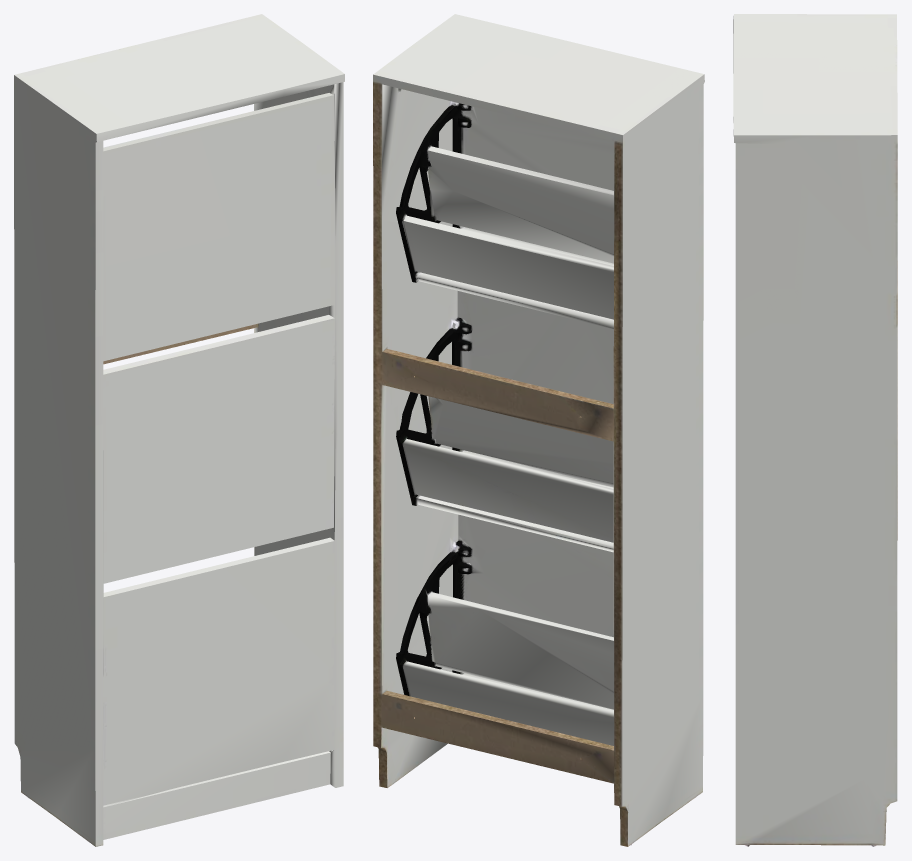
3 views of the same model, side by side, from view 1: azimuth 30°, elevation 25°; view 2: azimuth 150°, elevation 25°; view 3: azimuth 270°, elevation 25° (orthographic).
Visible parts, largest first — view 1: ProcessedMeshNode; view 2: ProcessedMeshNode; view 3: ProcessedMeshNode.
Boxes of the visible parts, x1=… form: ProcessedMeshNode: x1=14, y1=14, x2=344, y2=846; ProcessedMeshNode: x1=373, y1=14, x2=704, y2=846; ProcessedMeshNode: x1=733, y1=14, x2=897, y2=846.
Bounding box in the file's own units: 0.4903 × 1.35 × 0.2815.
1 material, 1 textured.
